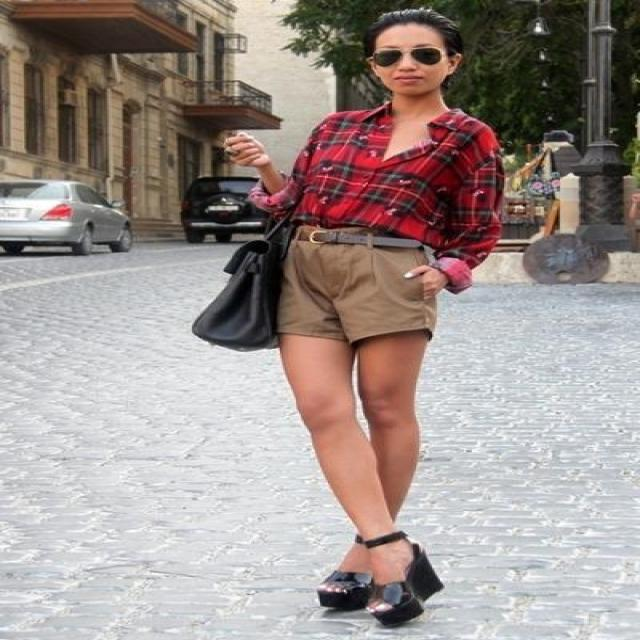bag: (192, 232, 290, 351)
shirt: (261, 94, 525, 293)
shoe: (318, 531, 440, 612)
shorts: (278, 243, 444, 344)
sunglass: (358, 35, 458, 79)
